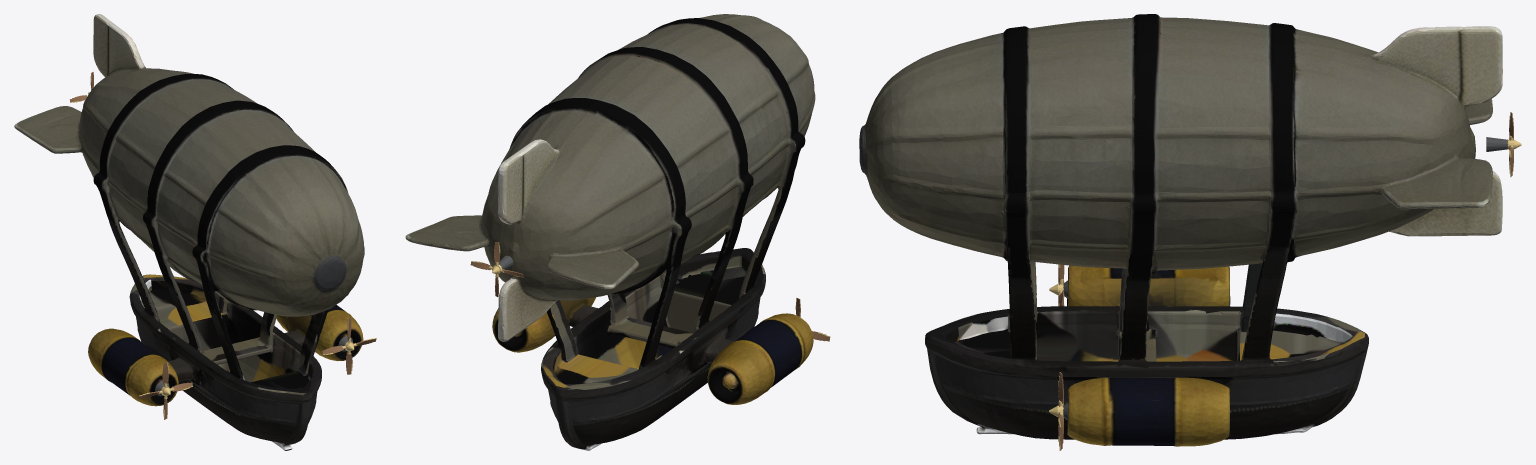
The model's file is patrol_airship.glb.
3 views of the same model, side by side, from view 1: azimuth 30°, elevation 25°; view 2: azimuth 150°, elevation 25°; view 3: azimuth 270°, elevation 25° (orthographic). The views are drawn at different scales.
Parts seen in each view (by area): view 1: HullBody, PART_prop_port, PART_prop_stbd; view 2: HullBody, PART_prop_stern; view 3: HullBody.
Part boxes in pixels (box(x1,y1,x2,y2)): HullBody: box(14, 14, 364, 450); PART_prop_port: box(322, 317, 376, 374); PART_prop_stbd: box(138, 362, 192, 419); HullBody: box(405, 14, 815, 450); PART_prop_stern: box(470, 242, 523, 297); HullBody: box(859, 14, 1508, 446).
Bounding box in the file's own units: 40.52 × 49.1 × 72.02.
Materials: 8 (1 with a texture image).
